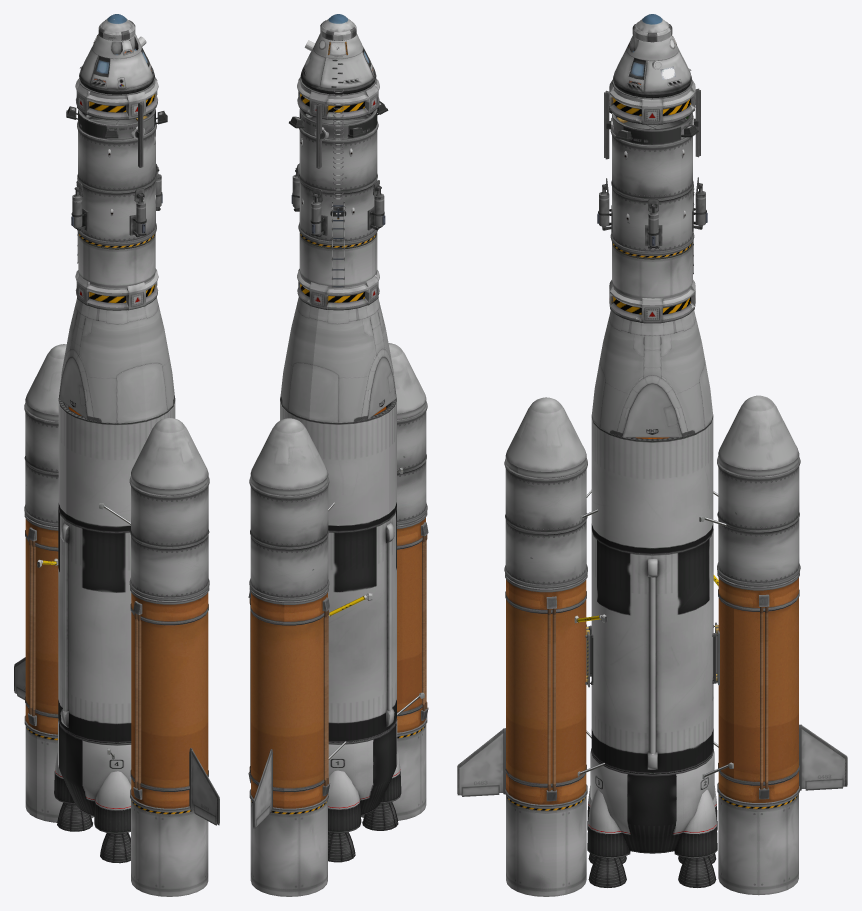
3 renders of one model, left to right at view 1: azimuth 30°, elevation 25°; view 2: azimuth 150°, elevation 25°; view 3: azimuth 270°, elevation 25°, orthographic. The views are drawn at different scales.
Parts seen in each view (by area): view 1: longtank.002 (×2), tank.003 (×3), Size3LargeTank.003, Mk3-Size2.003, fairing.004 (×2), Size3MediumTank.003, nose.002 (×2), Size3EngineCluster.003, decoupler.002 (×2), OuterShell.001, fairing.002, winglet.005 (+4 smaller); view 2: longtank.002 (×2), tank.003 (×3), Size3LargeTank.003, Mk3-Size2.003, fairing.004 (×2), Size3MediumTank.003, nose.002 (×2), Size3EngineCluster.003, decoupler.002 (×2), OuterShell.001, fairing.002, asas.001 (+5 smaller); view 3: longtank.002 (×2), Size3LargeTank.003, tank.003 (×3), Size3MediumTank.003, fairing.004 (×2), Mk3-Size2.003, Size3EngineCluster.003, nose.002 (×2), decoupler.002 (×2), winglet.005 (×2), OuterShell.001, fairing.002 (+3 smaller).
Part boxes in pixels (x1,y1,x2,y2): longtank.002 (×2): (24,513,209,812); tank.003 (×3): (24,115,209,600); Size3LargeTank.003: (58,507,131,742); Mk3-Size2.003: (58,297,175,423); fairing.004 (×2): (25,726,208,896); Size3MediumTank.003: (58,399,175,532); nose.002 (×2): (25,344,208,495); Size3EngineCluster.003: (54,719,131,833); decoupler.002 (×2): (75,77,158,310); OuterShell.001: (79,33,154,94); fairing.002: (78,233,155,288); winglet.005: (189,748,219,825); longtank.002 (×2): (248,511,428,812); tank.003 (×3): (249,115,427,601); Size3LargeTank.003: (328,508,396,742); Mk3-Size2.003: (280,297,396,423); fairing.004 (×2): (250,724,426,896); Size3MediumTank.003: (280,398,396,531); nose.002 (×2): (250,343,426,495); Size3EngineCluster.003: (328,719,401,832); decoupler.002 (×2): (297,77,379,310); OuterShell.001: (300,33,376,94); fairing.002: (299,233,377,287); asas.001: (299,109,377,139); longtank.002 (×2): (505,571,799,808); Size3LargeTank.003: (591,529,713,773); tank.003 (×3): (504,119,800,588); Size3MediumTank.003: (591,416,713,554); fairing.004 (×2): (506,794,798,896); Mk3-Size2.003: (591,310,713,437); Size3EngineCluster.003: (587,748,717,858); nose.002 (×2): (505,395,799,478); decoupler.002 (×2): (609,79,695,323); winglet.005 (×2): (457,724,847,795); OuterShell.001: (613,35,691,98); fairing.002: (612,242,692,299).
Size of what is drawn, in the model's own units: 4.23 by 29.39 by 12.04.
32 materials, 32 textured.
